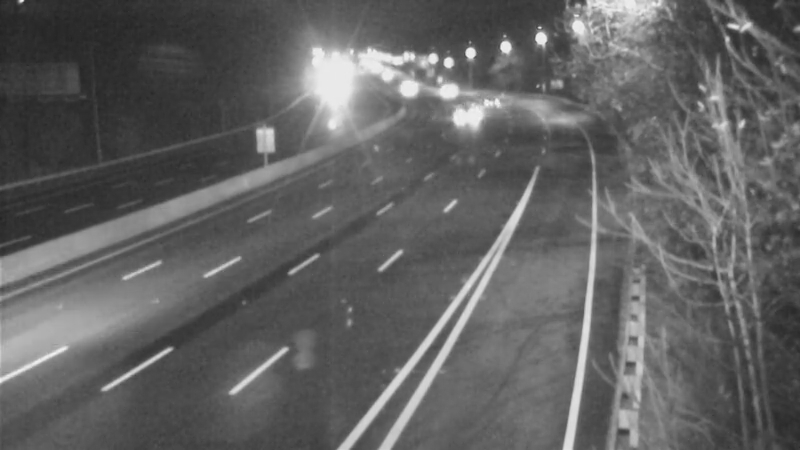vehicle: (386, 66, 436, 116), (419, 67, 469, 117), (460, 78, 510, 128), (446, 93, 496, 143)
